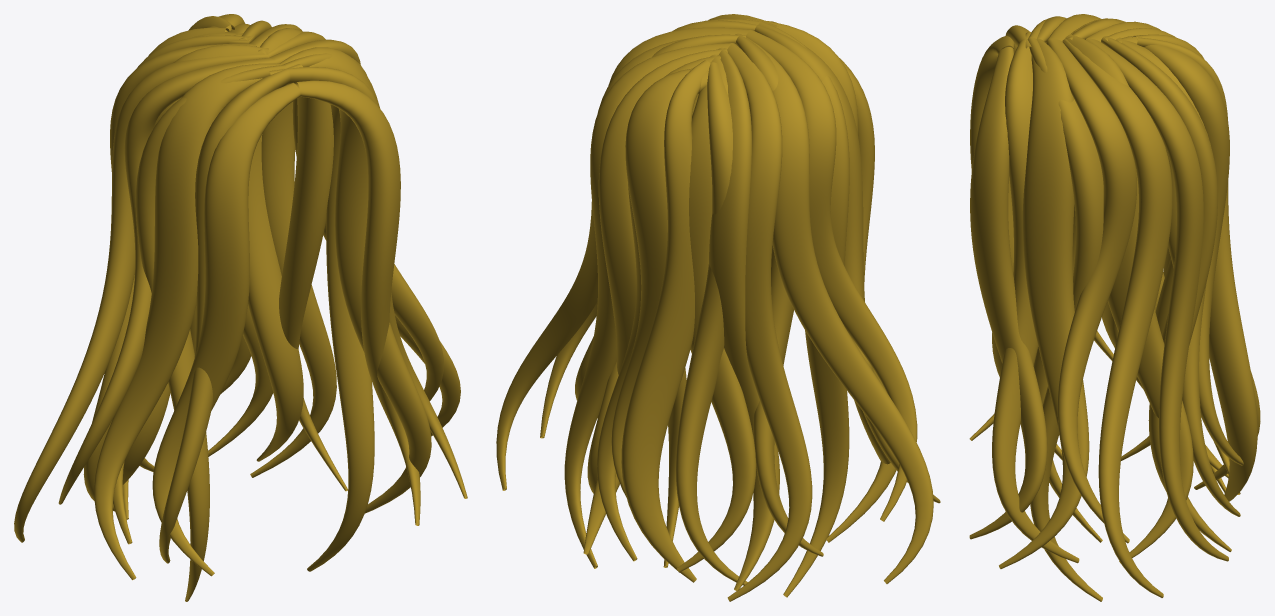
File: Char-model_Female-H_W_LONG.fbx
The picture shows the model from 3 angles, left to right: view 1: azimuth 30°, elevation 25°; view 2: azimuth 150°, elevation 25°; view 3: azimuth 270°, elevation 25°; orthographic projection. The views are drawn at different scales.
Visible parts, largest first — view 1: H3.011; view 2: H3.011; view 3: H3.011.
Part boxes in pixels (x1,y1,x2,y2): H3.011: (14, 14, 467, 601); H3.011: (496, 14, 940, 601); H3.011: (969, 14, 1260, 601).
Bounding box in the file's own units: 389 × 464 × 228.
